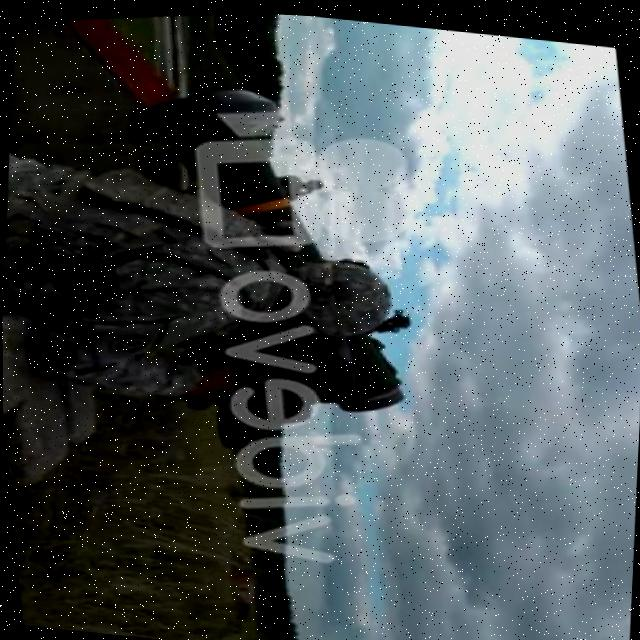rocket: (119, 55, 422, 444)
